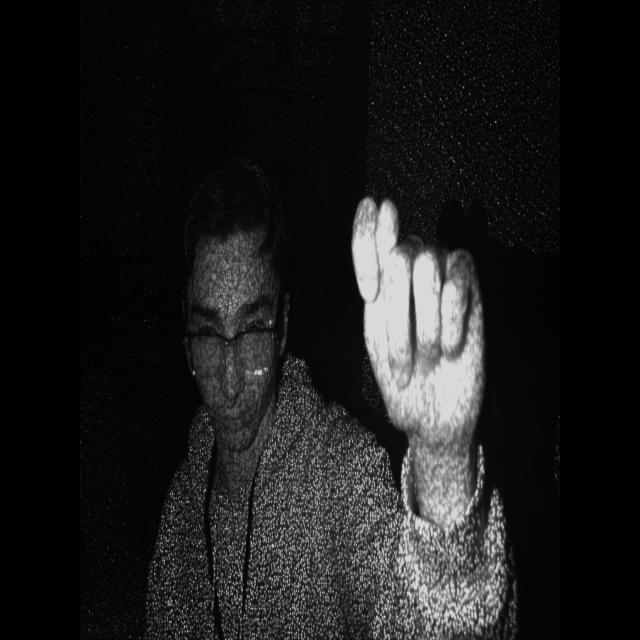T: (340, 179, 496, 464)
